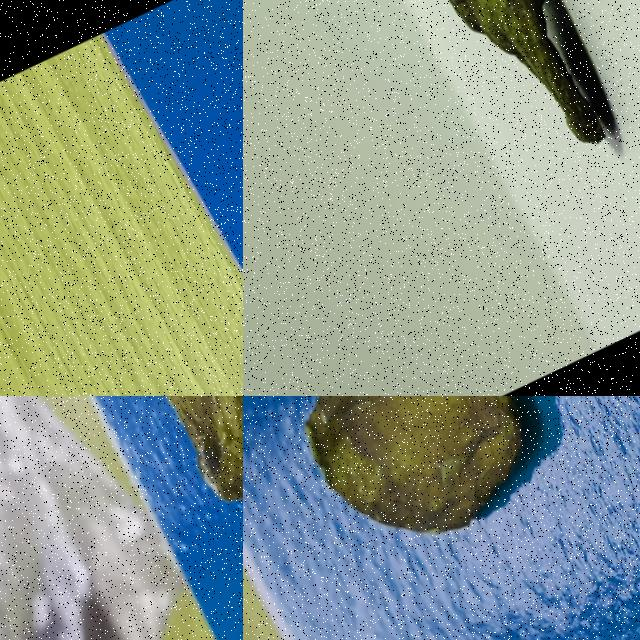Flat_cocoabeans: (243, 396, 627, 625), (368, 0, 639, 226), (21, 396, 242, 590)
